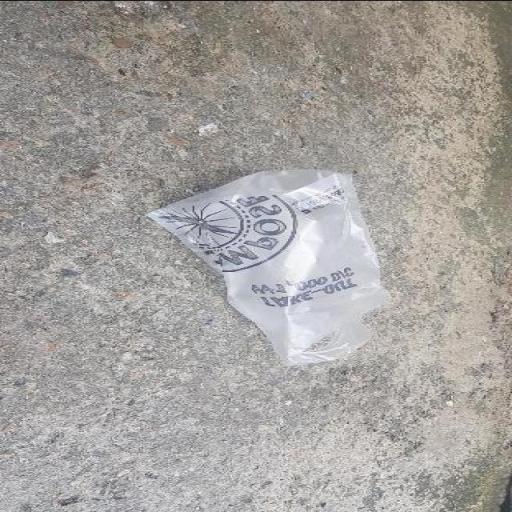plastic-bag: (142, 166, 400, 367)
